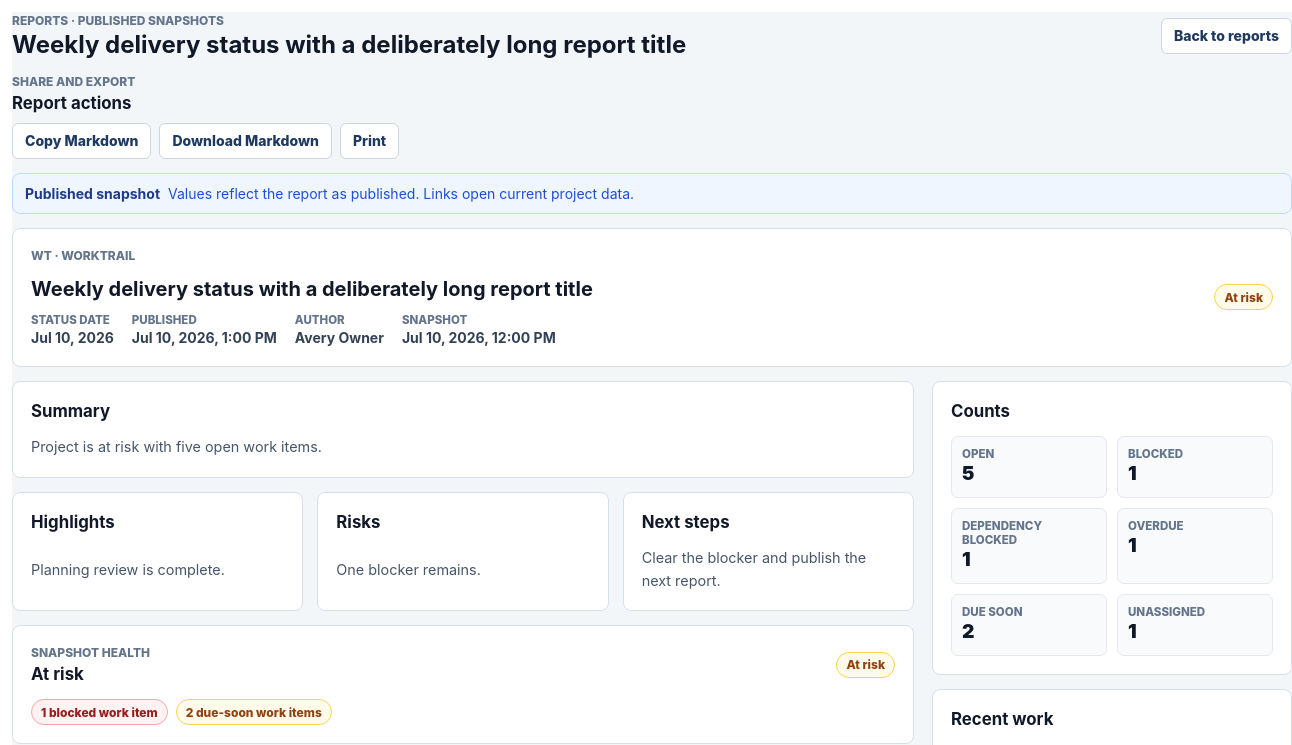
Scenario: ProjectStatusReportDetailPageComponent › downloads exported Markdown using the attachment filename
Click the button "Download Markdown" at [246, 141], box [159,123,332,159]
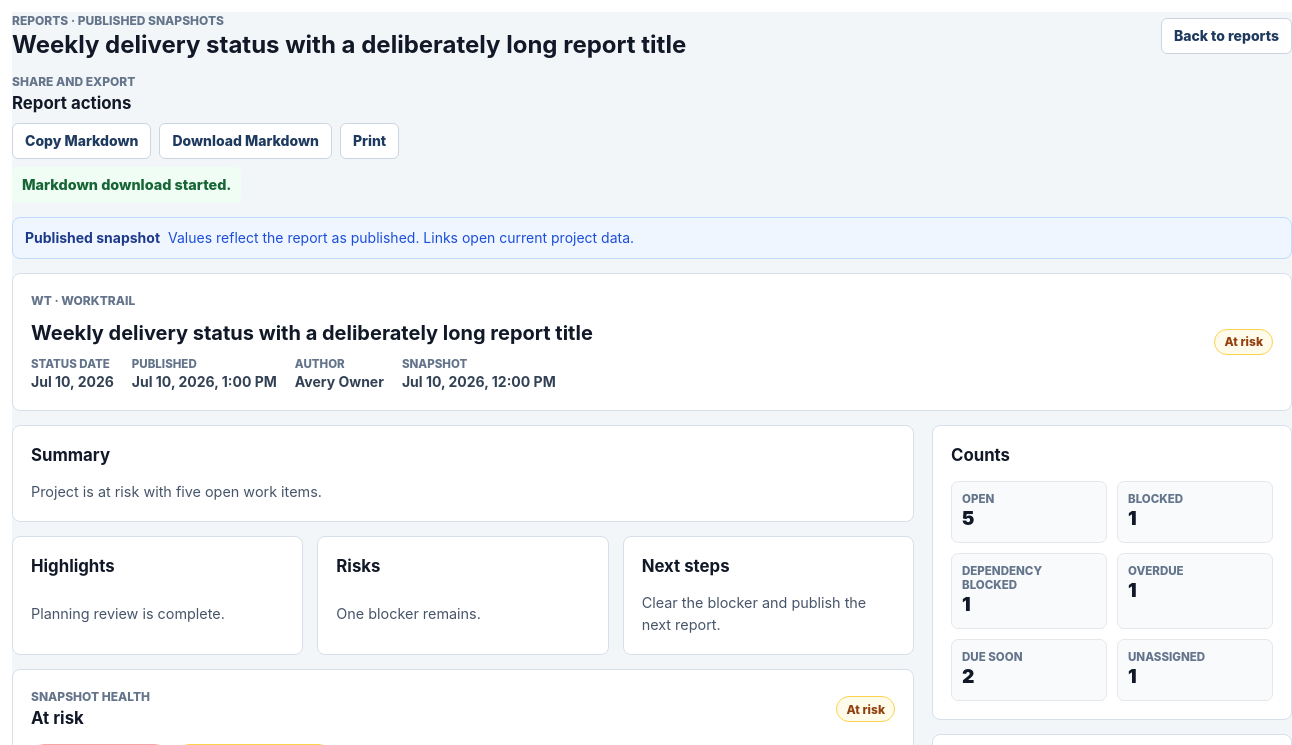
Expected: the text "Markdown download started." is shown, [12,167,241,203]
